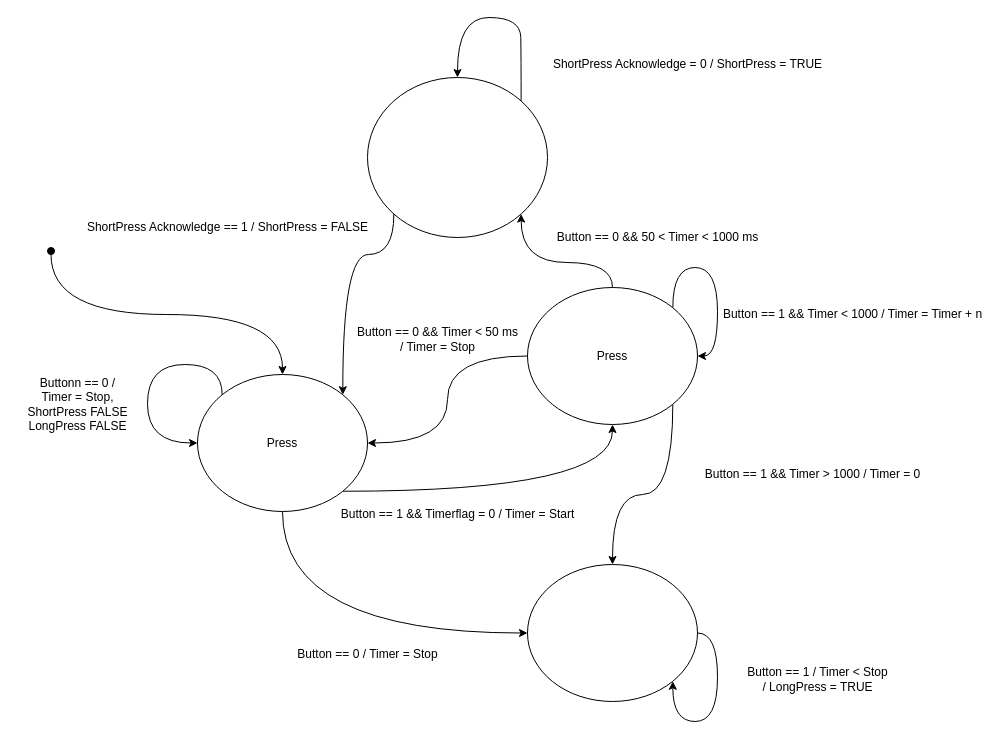
This 1004x739 diagram has some shape labels left out. Each missing label, with the centre of its shape:
Long Press: the point at 612,633
ShortPress: the point at 457,157
